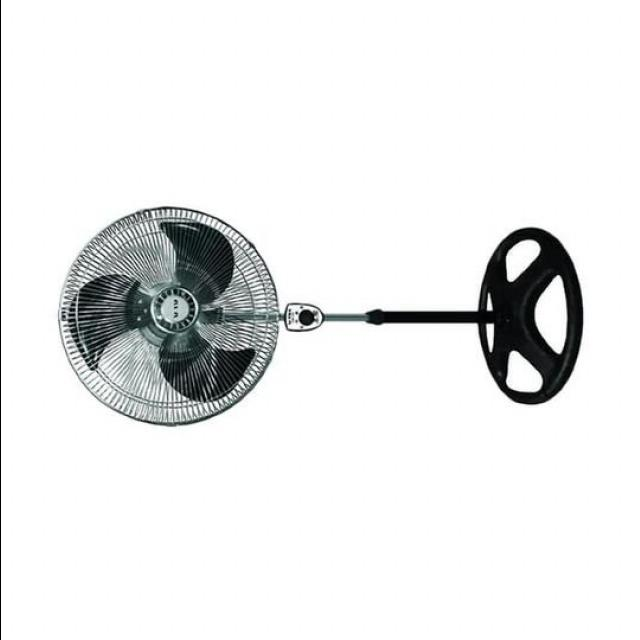fan: (51, 202, 592, 426)
